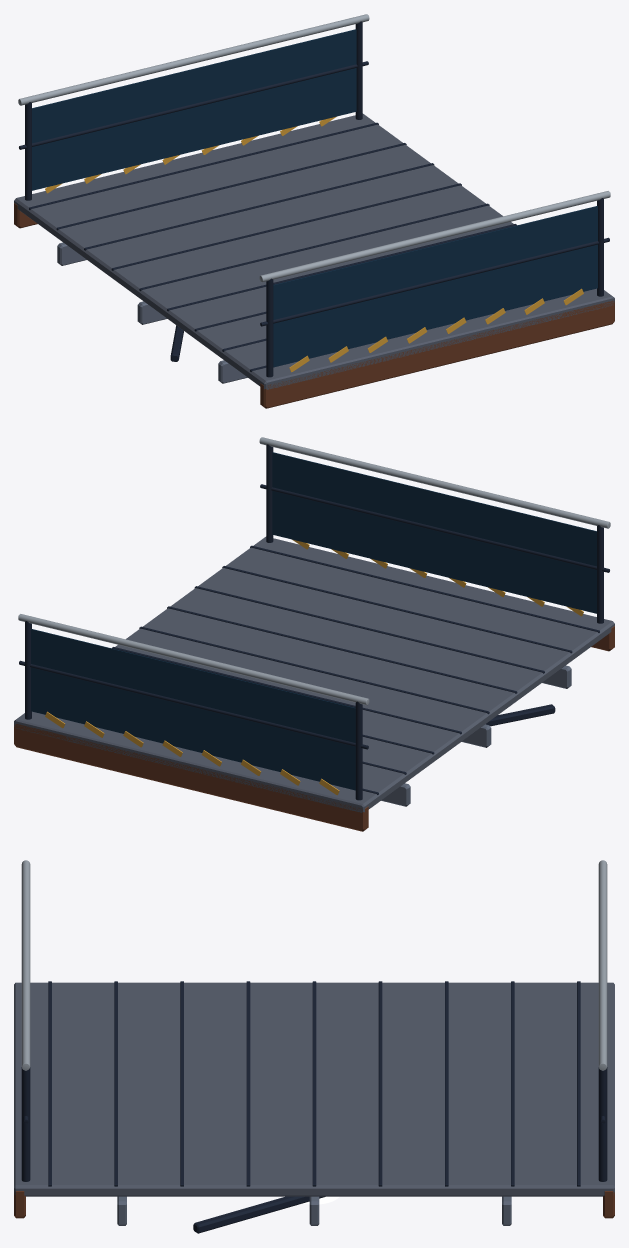
Rendered from switchyard_catwalk.glb.
The picture shows the model from 3 angles, top to bottom: view 1: azimuth 30°, elevation 25°; view 2: azimuth 150°, elevation 25°; view 3: azimuth 270°, elevation 25°; orthographic projection. The views are drawn at different scales.
Parts seen in each view (by area): view 1: cat_grate, cat_mesh-1, cat_mesh1, cat_edge1, cat_handrail1, cat_handrail-1, cat_midrail-1, cat_midrail1, cat_kick1, cat_grate_bar2, cat_grate_bar4, cat_grate_bar1 (+8 smaller); view 2: cat_grate, cat_mesh1, cat_mesh-1, cat_edge-1, cat_handrail-1, cat_handrail1, cat_midrail1, cat_midrail-1, cat_kick-1, cat_grate_bar6, cat_grate_bar4, cat_grate_bar5 (+9 smaller); view 3: cat_grate, cat_handrail-1, cat_handrail1, cat_truss_diag3, cat_post-11.9, cat_post11.9, cat_grate_bar3, cat_grate_bar5, cat_grate_bar4, cat_grate_bar0, cat_grate_bar1, cat_grate_bar2 (+3 smaller).
Boxes of the visible parts, left/top/right/bottom form: cat_grate: left=14, top=113, right=614, bottom=389; cat_mesh-1: left=32, top=29, right=356, bottom=190; cat_mesh1: left=273, top=206, right=597, bottom=367; cat_edge1: left=260, top=300, right=614, bottom=408; cat_handrail1: left=259, top=191, right=610, bottom=282; cat_handrail-1: left=18, top=14, right=369, bottom=105; cat_midrail-1: left=19, top=61, right=368, bottom=149; cat_midrail1: left=260, top=237, right=609, bottom=326; cat_kick1: left=289, top=288, right=583, bottom=372; cat_grate_bar2: left=84, top=163, right=434, bottom=250; cat_grate_bar4: left=139, top=203, right=489, bottom=291; cat_grate_bar1: left=56, top=143, right=406, bottom=230; cat_grate: left=14, top=536, right=614, bottom=812; cat_mesh1: left=272, top=452, right=596, bottom=613; cat_mesh-1: left=31, top=629, right=355, bottom=790; cat_edge-1: left=14, top=724, right=368, bottom=831; cat_handrail-1: left=18, top=614, right=369, bottom=705; cat_handrail1: left=259, top=437, right=610, bottom=528; cat_midrail1: left=260, top=484, right=609, bottom=572; cat_midrail-1: left=19, top=660, right=368, bottom=749; cat_kick-1: left=45, top=711, right=339, bottom=795; cat_grate_bar6: left=194, top=586, right=544, bottom=673; cat_grate_bar4: left=139, top=626, right=489, bottom=714; cat_grate_bar5: left=167, top=606, right=517, bottom=693; cat_grate: left=14, top=982, right=614, bottom=1196; cat_handrail-1: left=598, top=860, right=607, bottom=1070; cat_handrail1: left=21, top=860, right=30, bottom=1070; cat_truss_diag3: left=193, top=1196, right=325, bottom=1233; cat_post-11.9: left=598, top=1067, right=607, bottom=1181; cat_post11.9: left=21, top=1067, right=30, bottom=1181; cat_grate_bar3: left=378, top=981, right=382, bottom=1186; cat_grate_bar5: left=246, top=981, right=250, bottom=1186; cat_grate_bar4: left=312, top=981, right=316, bottom=1186; cat_grate_bar0: left=577, top=981, right=580, bottom=1186; cat_grate_bar1: left=511, top=981, right=514, bottom=1186; cat_grate_bar2: left=445, top=981, right=448, bottom=1186.
Size of the model in its own units: 4.41 by 2.13 by 5.
